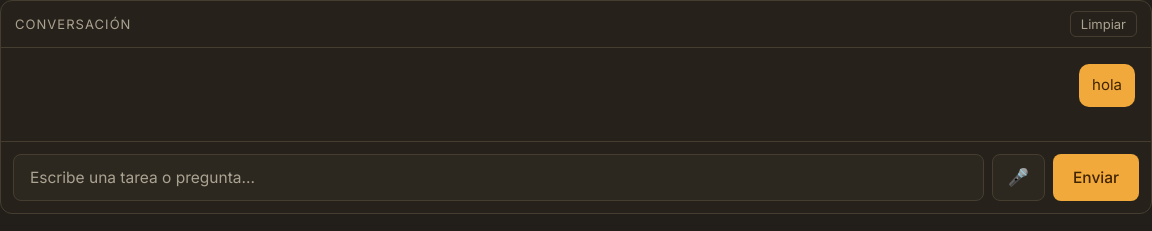
Test case: ChatWindow › el boton Limpiar borra la conversacion (servidor + estado local)
The image size is (1152, 231).
Check: the text "hola" is shown, box [1079, 64, 1135, 106]
Click the button "Limpiar" at (1103, 24), box [1070, 11, 1137, 37]
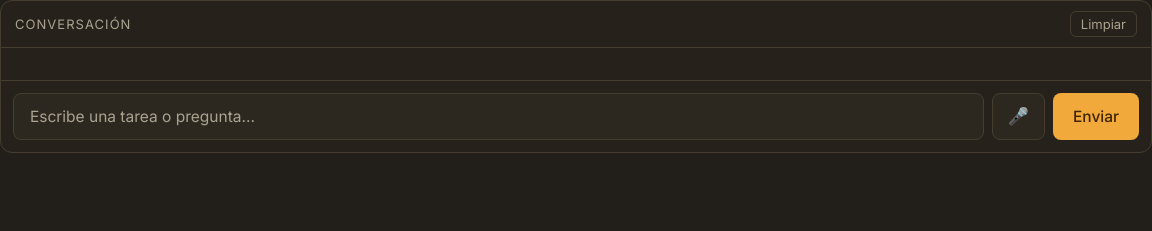
Check: the text "hola" is gone
